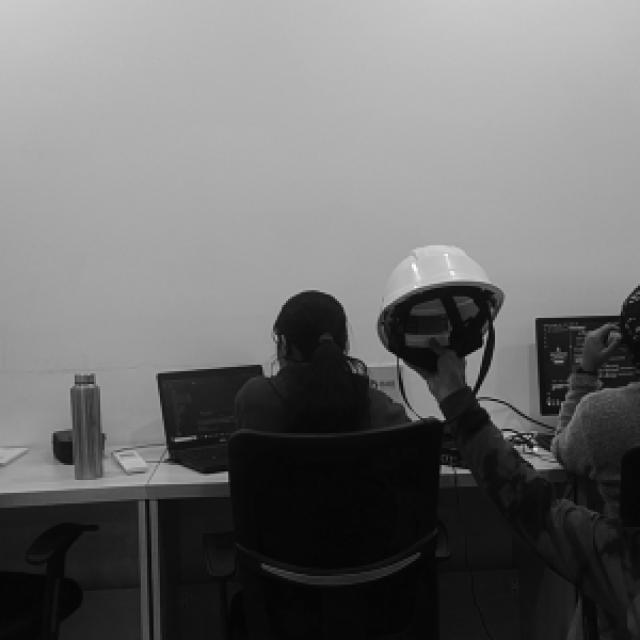safety_helmet: (378, 244, 504, 334)
